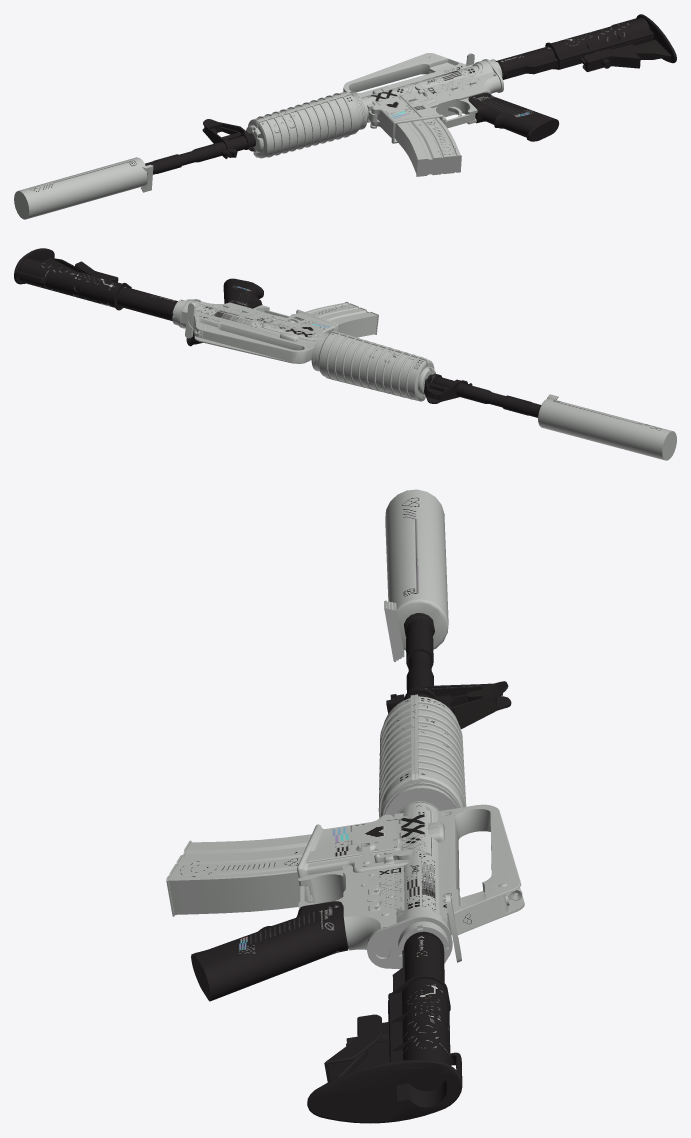
The model's file is gun.glb.
3 views of the same model, one above another, from view 1: azimuth 30°, elevation 25°; view 2: azimuth 150°, elevation 25°; view 3: azimuth 270°, elevation 25° (orthographic). The views are drawn at different scales.
Parts seen in each view (by area): view 1: m4a1_s_1; view 2: m4a1_s_1; view 3: m4a1_s_1.
Part boxes in pixels (x1,y1,x2,y2): m4a1_s_1: [14, 14, 676, 219]; m4a1_s_1: [14, 248, 676, 460]; m4a1_s_1: [166, 489, 524, 1123].
Bounding box in the file's own units: 4.75 × 0.3547 × 1.17.
1 material, 1 textured.
